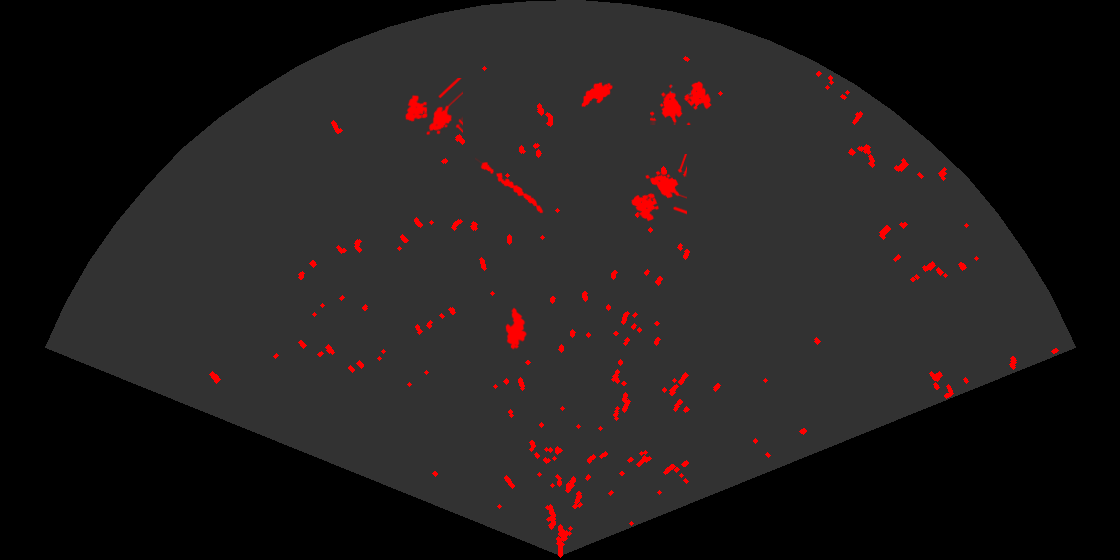AUV: (504, 306, 529, 351), (580, 81, 614, 109)
cage: (630, 154, 687, 223), (404, 78, 463, 137), (650, 80, 713, 125)
chain: (475, 156, 545, 215)
